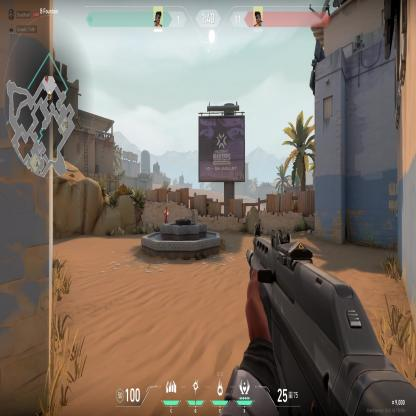enemy: (163, 206, 169, 224)
